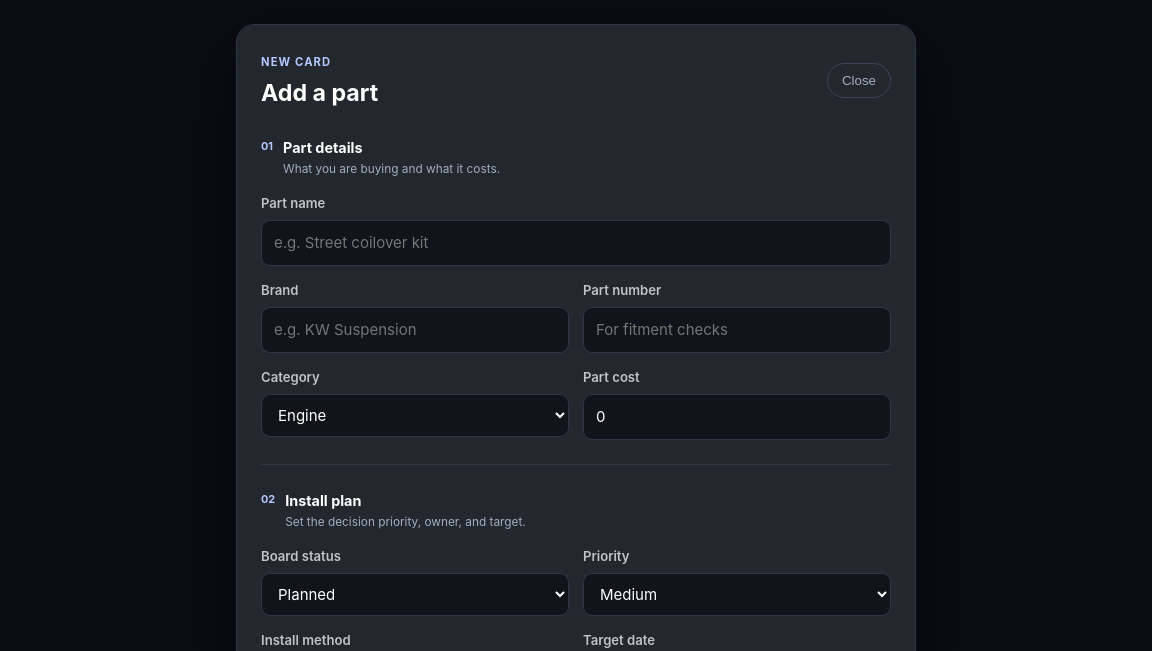
Test: ModForm › validates required values before creating a part
Replace the text in the number field with id "mod-cost" with "-1" at (737, 417), box [583, 394, 891, 440]
(page scrolled)
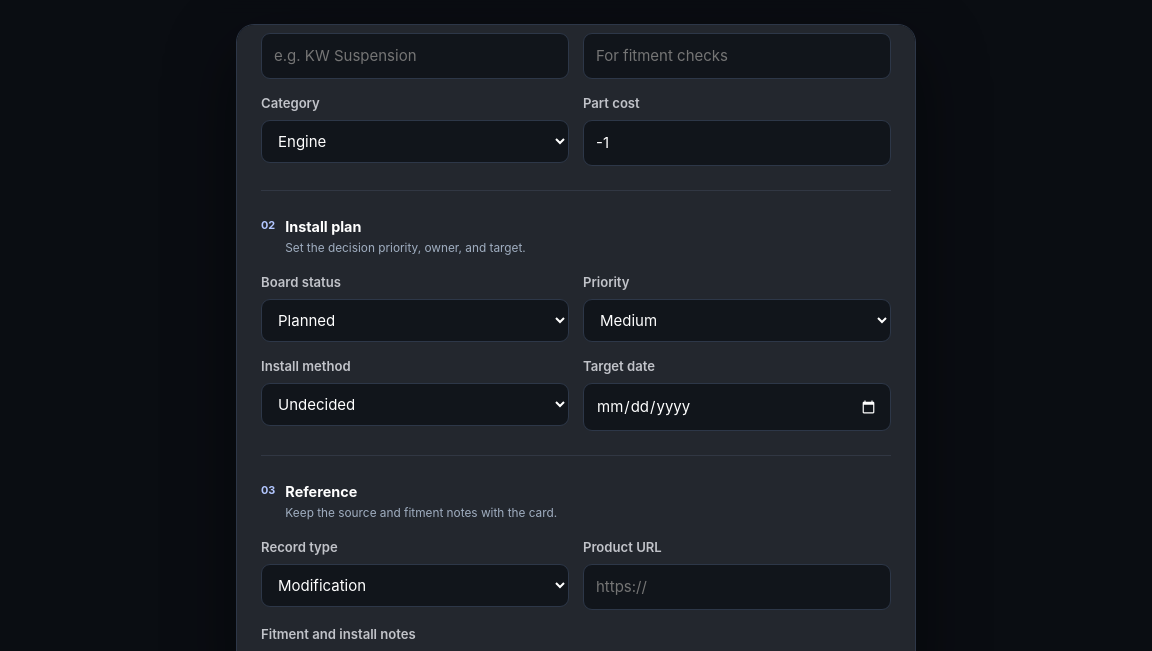
Submit the form
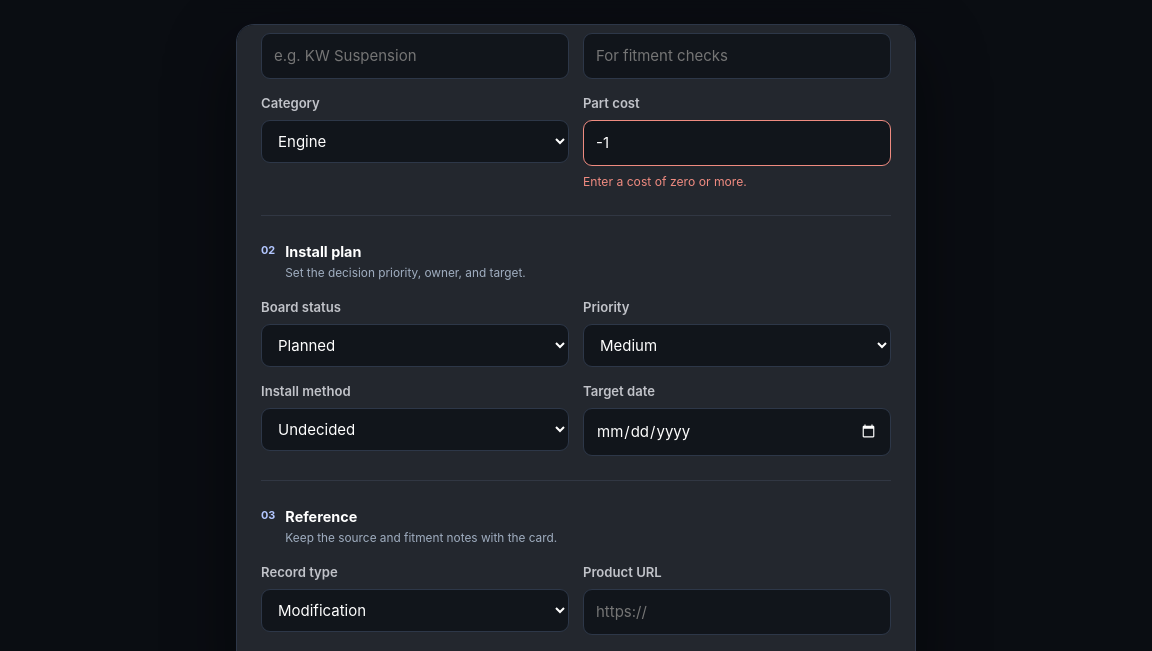
Now the text "Enter a cost of zero or more." is shown, box [583, 174, 747, 188]
